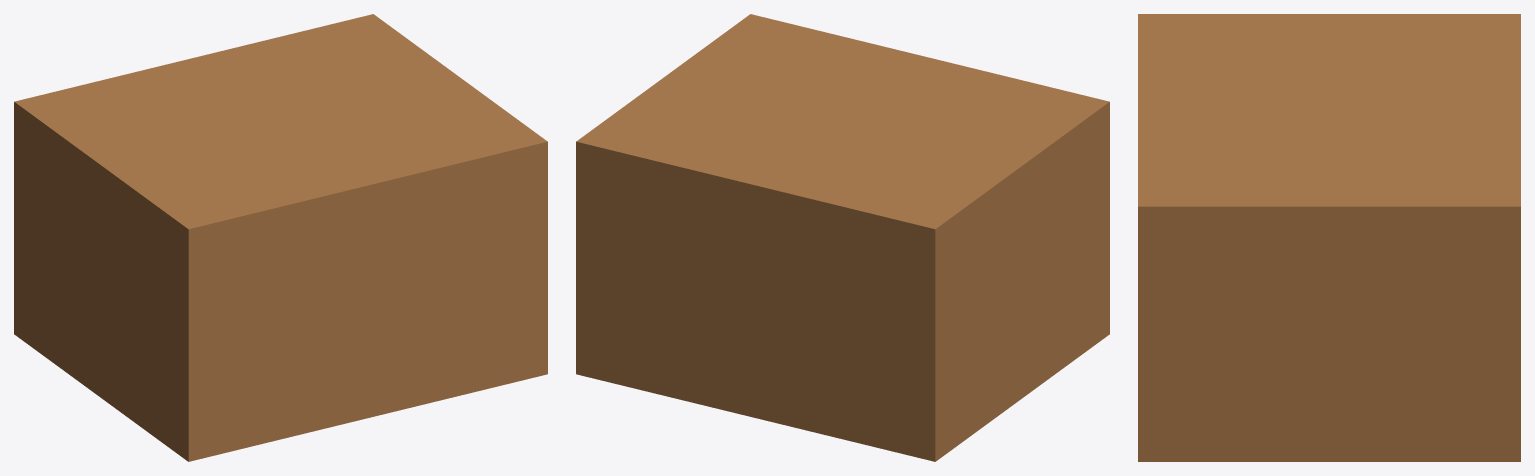
The model's file is prop_quarantine_hut_lod2.glb.
3 views of the same model, side by side, from view 1: azimuth 30°, elevation 25°; view 2: azimuth 150°, elevation 25°; view 3: azimuth 270°, elevation 25° (orthographic). The views are drawn at different scales.
Visible parts, largest first — view 1: prop_quarantine_hut_lod2; view 2: prop_quarantine_hut_lod2; view 3: prop_quarantine_hut_lod2.
Part boxes in pixels (x1,y1,x2,y2): prop_quarantine_hut_lod2: [14, 14, 547, 461]; prop_quarantine_hut_lod2: [576, 14, 1109, 461]; prop_quarantine_hut_lod2: [1138, 14, 1520, 461].
Bounding box in the file's own units: 3.2 × 1.98 × 2.69.
